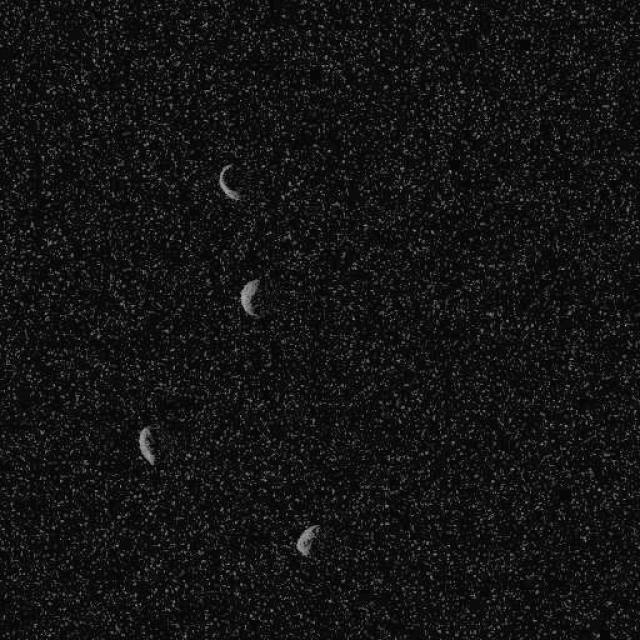D2: (216, 162, 242, 202), (295, 522, 320, 558), (239, 278, 261, 318), (136, 425, 156, 466)
